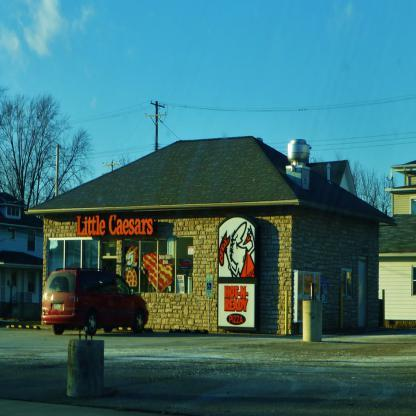car: (42, 270, 151, 342)
